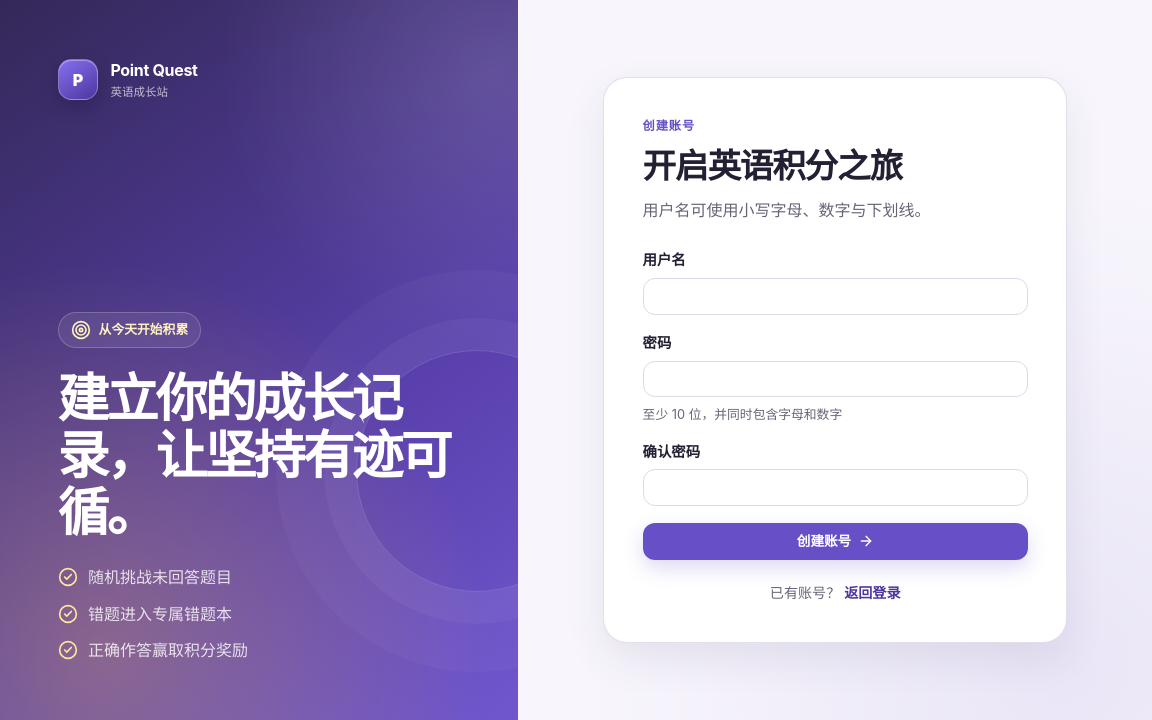
it: 认证表单 › 注册冲突时保留用户名并显示中文错误
Type "learner_01" into the field labelled "用户名" at (835, 297), box [643,278,1028,315]
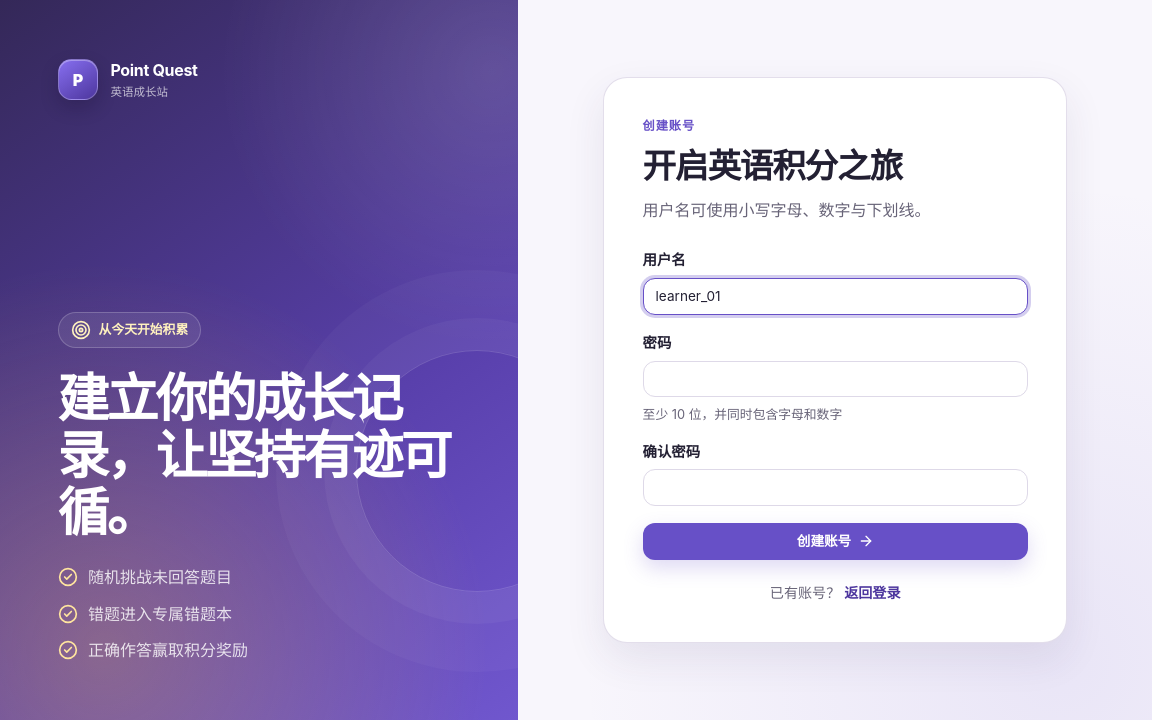
Type "password123" into the password field labelled "密码" at (835, 379), box [643,361,1028,397]
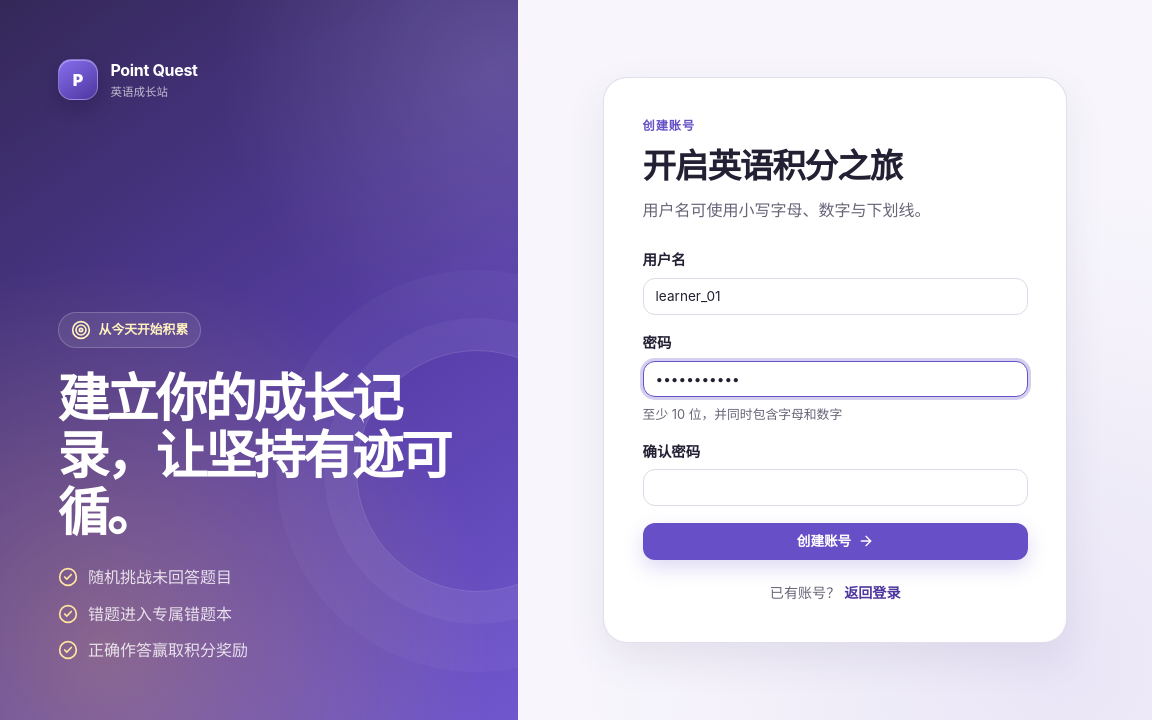
Type "password123" into the password field labelled "确认密码" at (835, 488), box [643,469,1028,506]
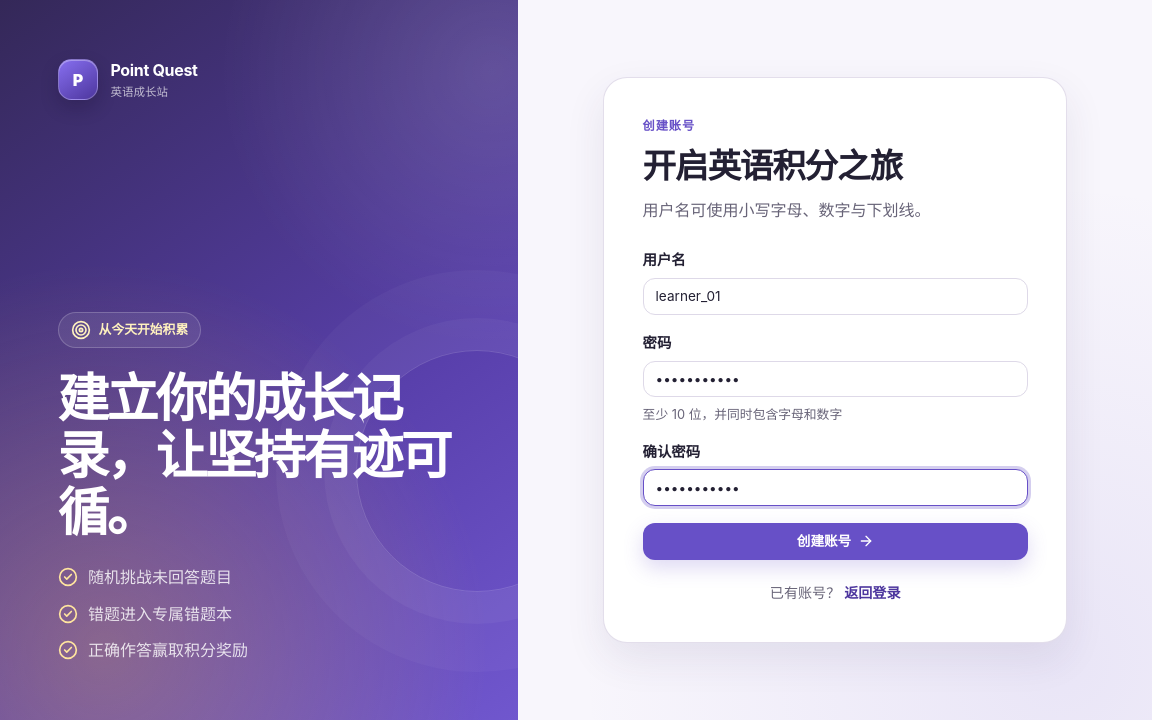
Click the button "创建账号" at (835, 541), box [643,523,1028,560]
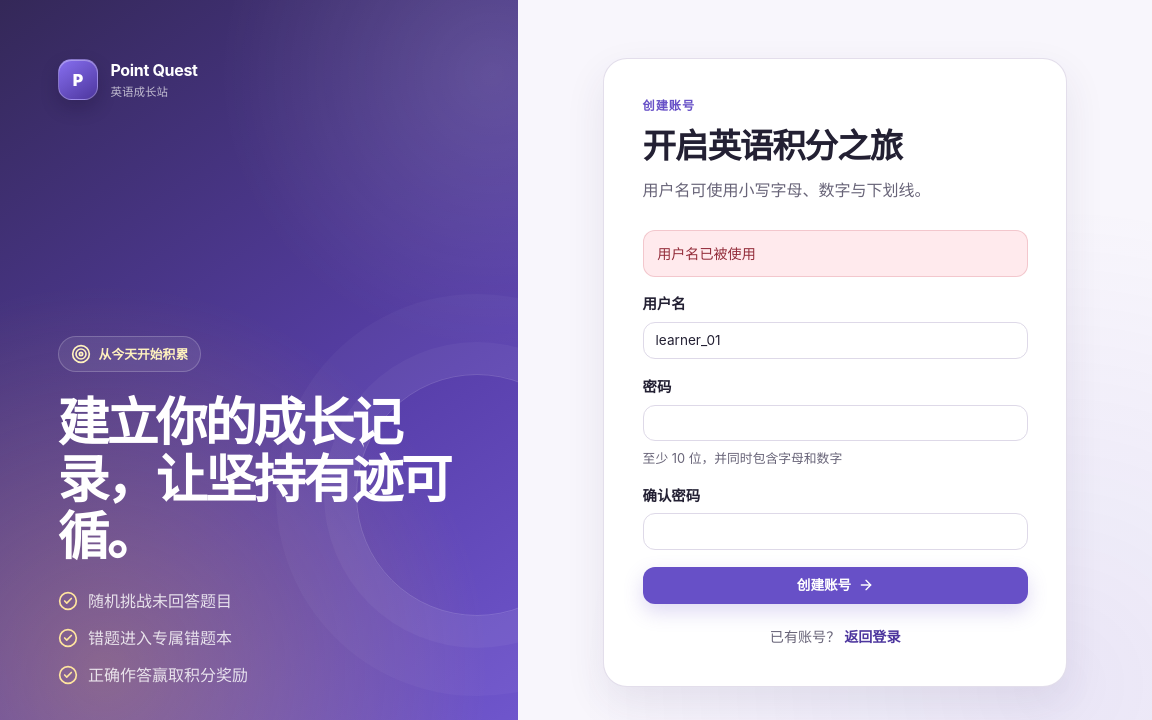
Now the message reads "用户名已被使用", box [657,245,756,262]
Now the password field labelled "密码" is empty, box [643,405,1028,441]
Now the password field labelled "确认密码" is empty, box [643,513,1028,550]
